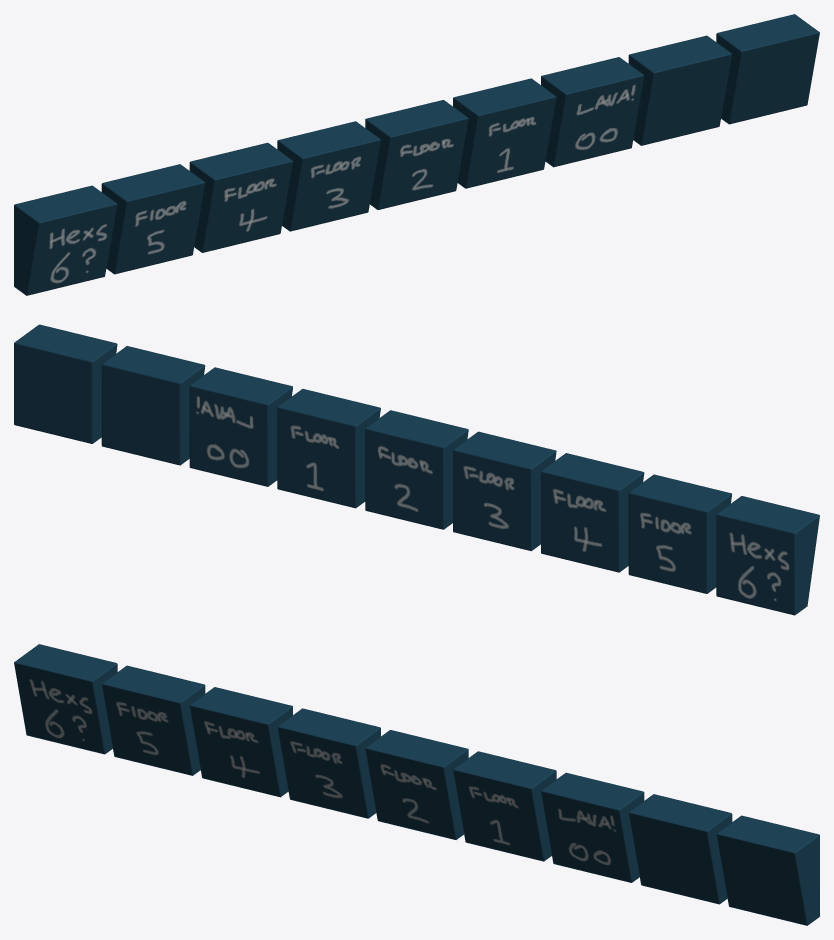
File: teleporter-sign.gltf
3 renders of one model, top to bottom at view 1: azimuth 30°, elevation 25°; view 2: azimuth 150°, elevation 25°; view 3: azimuth 330°, elevation 25°, orthographic.
Visible parts, largest first — view 1: Plane; view 2: Plane; view 3: Plane.
Boxes of the visible parts, x1=… form: Plane: x1=14, y1=14, x2=819, y2=295; Plane: x1=14, y1=324, x2=819, y2=615; Plane: x1=14, y1=644, x2=819, y2=925.
Size of the model in its own units: 17.8 by 1.8 by 0.9962.
Materials: 1 (1 with a texture image).
